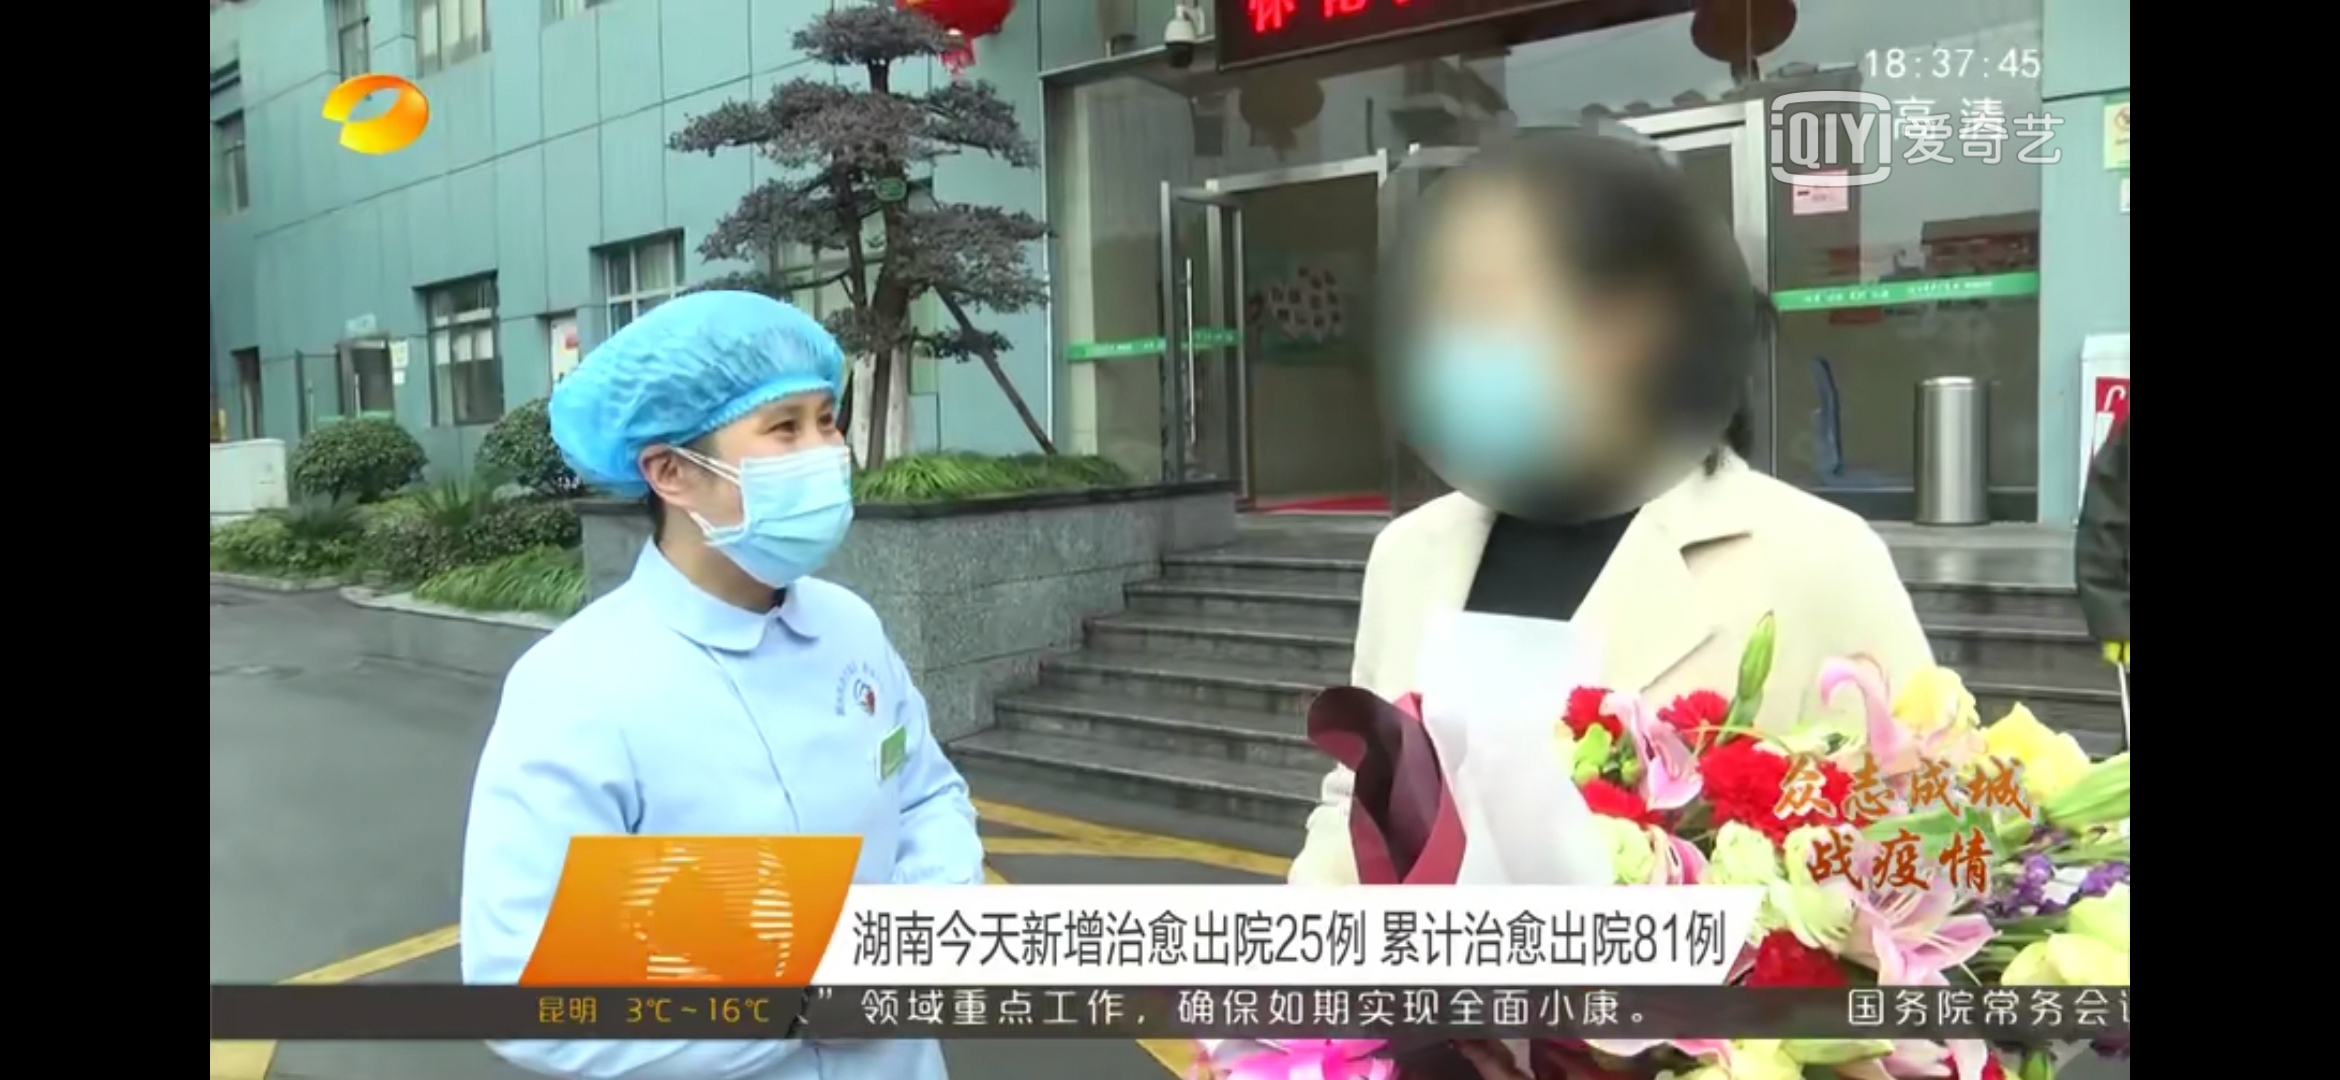correctlyWear: (636, 374, 861, 589)
